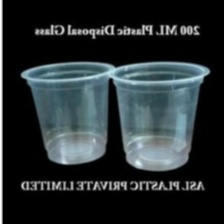glass: (108, 55, 212, 175), (18, 57, 121, 169)
